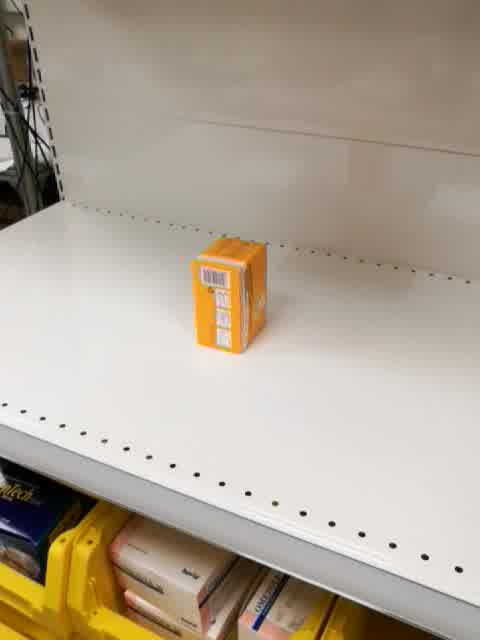jasminetea: (191, 236, 268, 355)
